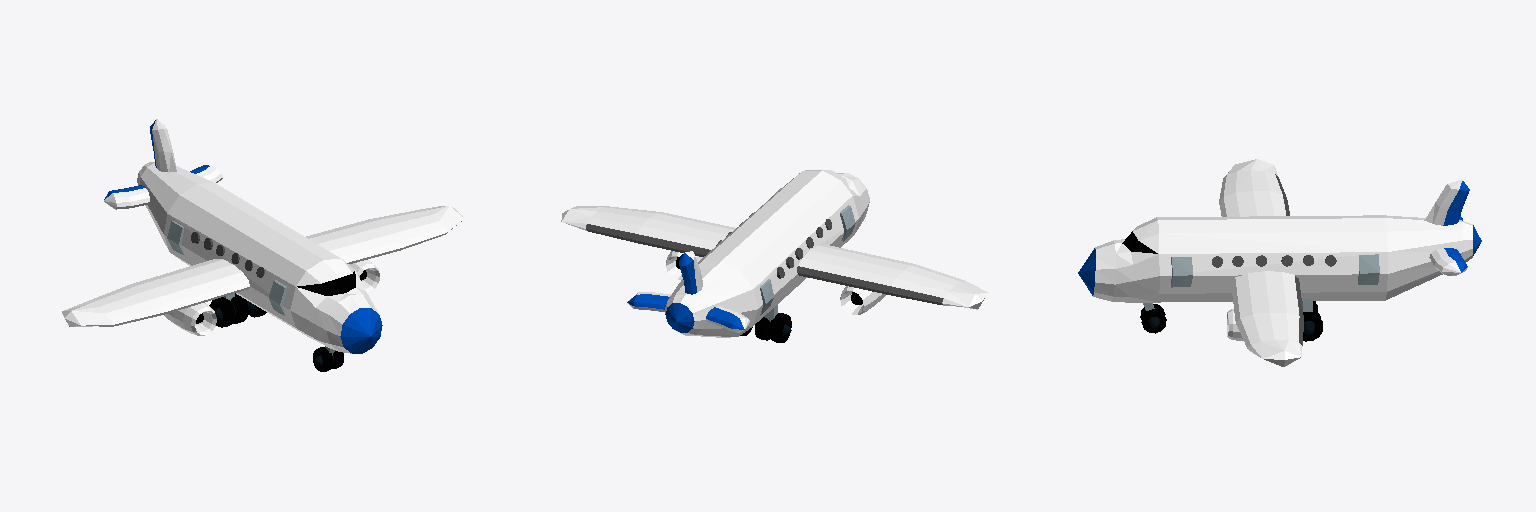
3 views of the same model, side by side, from view 1: azimuth 30°, elevation 25°; view 2: azimuth 150°, elevation 25°; view 3: azimuth 270°, elevation 25° (orthographic).
Parts seen in each view (by area): view 1: group[number redacted], group[number redacted], group[number redacted], group[number redacted], group[number redacted], group[number redacted], group[number redacted]; view 2: group[number redacted], group[number redacted], group[number redacted], group[number redacted], group[number redacted], group[number redacted], group[number redacted]; view 3: group[number redacted], group[number redacted], group[number redacted], group[number redacted], group[number redacted], group[number redacted], group[number redacted], group[number redacted], group[number redacted], group[number redacted].
Boxes of the visible parts, x1=… form: group[number redacted]: x1=137, y1=162, x2=382, y2=353; group[number redacted]: x1=62, y1=259, x2=249, y2=335; group[number redacted]: x1=306, y1=206, x2=463, y2=291; group[number redacted]: x1=209, y1=293, x2=266, y2=327; group[number redacted]: x1=150, y1=119, x2=176, y2=172; group[number redacted]: x1=104, y1=185, x2=149, y2=209; group[number redacted]: x1=313, y1=346, x2=343, y2=371; group[number redacted]: x1=664, y1=170, x2=869, y2=337; group[number redacted]: x1=797, y1=244, x2=987, y2=314; group[number redacted]: x1=561, y1=206, x2=735, y2=279; group[number redacted]: x1=740, y1=305, x2=791, y2=342; group[number redacted]: x1=706, y1=306, x2=749, y2=332; group[number redacted]: x1=679, y1=251, x2=702, y2=294; group[number redacted]: x1=627, y1=292, x2=671, y2=311; group[number redacted]: x1=1078, y1=215, x2=1481, y2=302; group[number redacted]: x1=1227, y1=271, x2=1303, y2=366; group[number redacted]: x1=1219, y1=159, x2=1289, y2=216; group[number redacted]: x1=1424, y1=180, x2=1469, y2=225; group[number redacted]: x1=1429, y1=248, x2=1467, y2=275; group[number redacted]: x1=1302, y1=299, x2=1322, y2=341; group[number redacted]: x1=1140, y1=303, x2=1166, y2=333; group[number redacted]: x1=1171, y1=257, x2=1192, y2=287; group[number redacted]: x1=1358, y1=254, x2=1379, y2=284; group[number redacted]: x1=1212, y1=255, x2=1336, y2=267.
Size of the model in its own units: 0.9263 by 0.3155 by 0.7988.